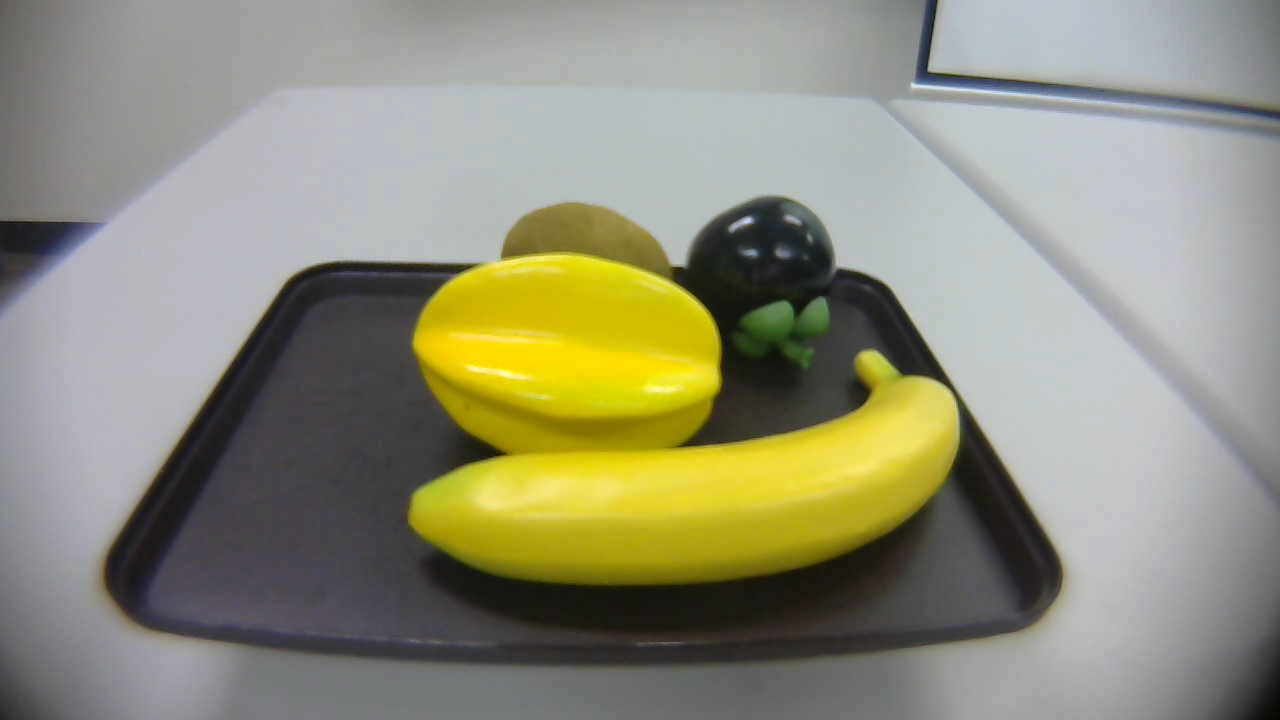banana: (390, 344, 985, 596)
kiwi fruit: (495, 199, 688, 323)
mangosteen: (681, 191, 851, 375)
star fruit: (410, 251, 723, 484)
